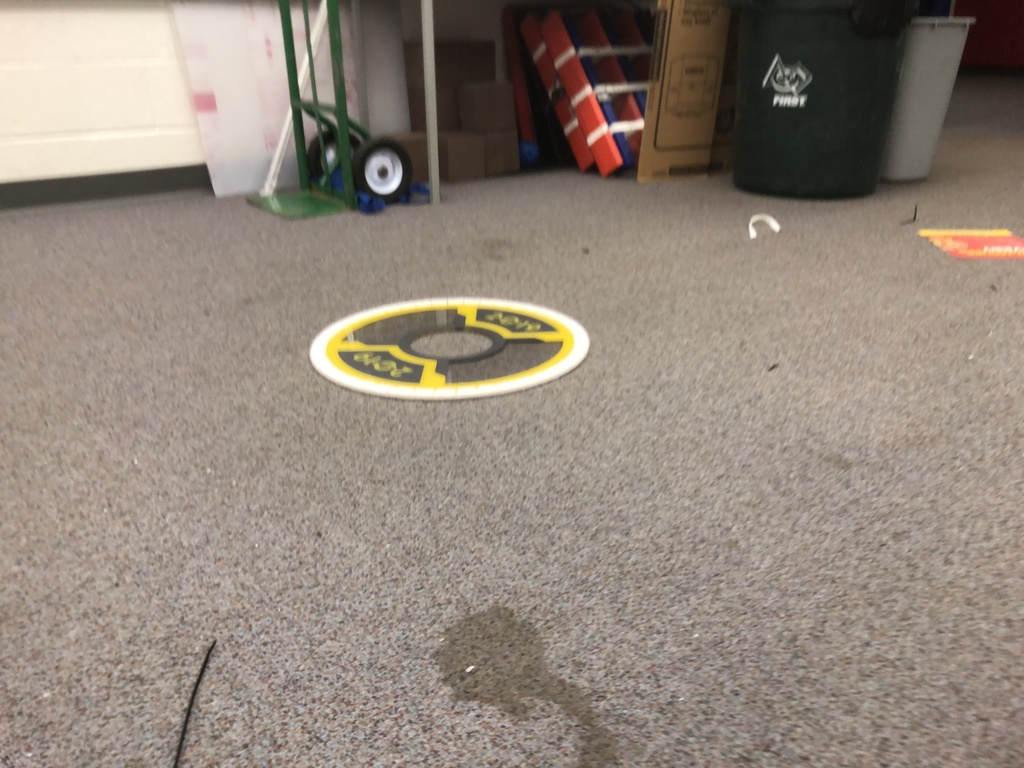hatch_panel: (305, 277, 603, 421)
